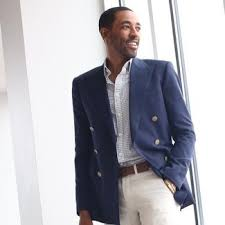F_M_suit jacket: (63, 57, 204, 222)
F_belt: (110, 157, 165, 181)
